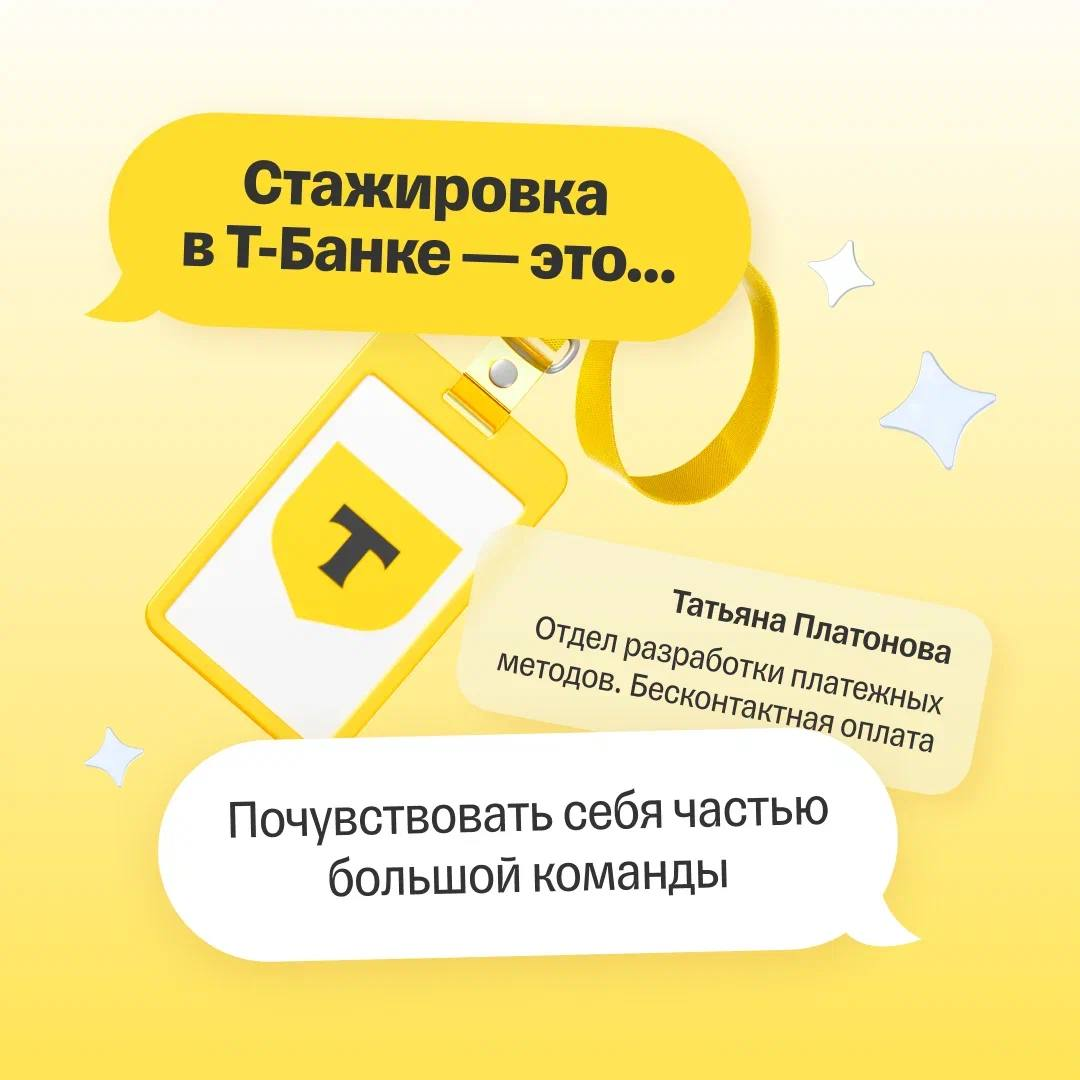TBank: (272, 439, 464, 630)
